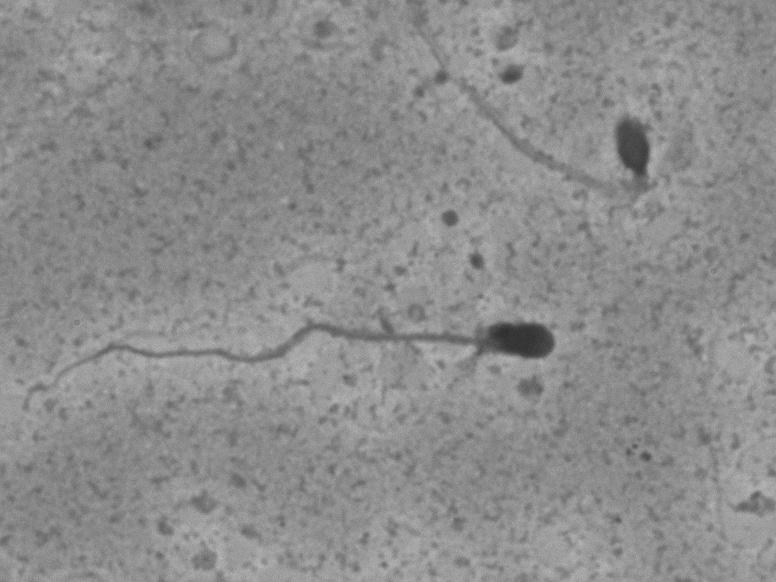Abnormal: (25, 281, 580, 448), (394, 28, 681, 228)
